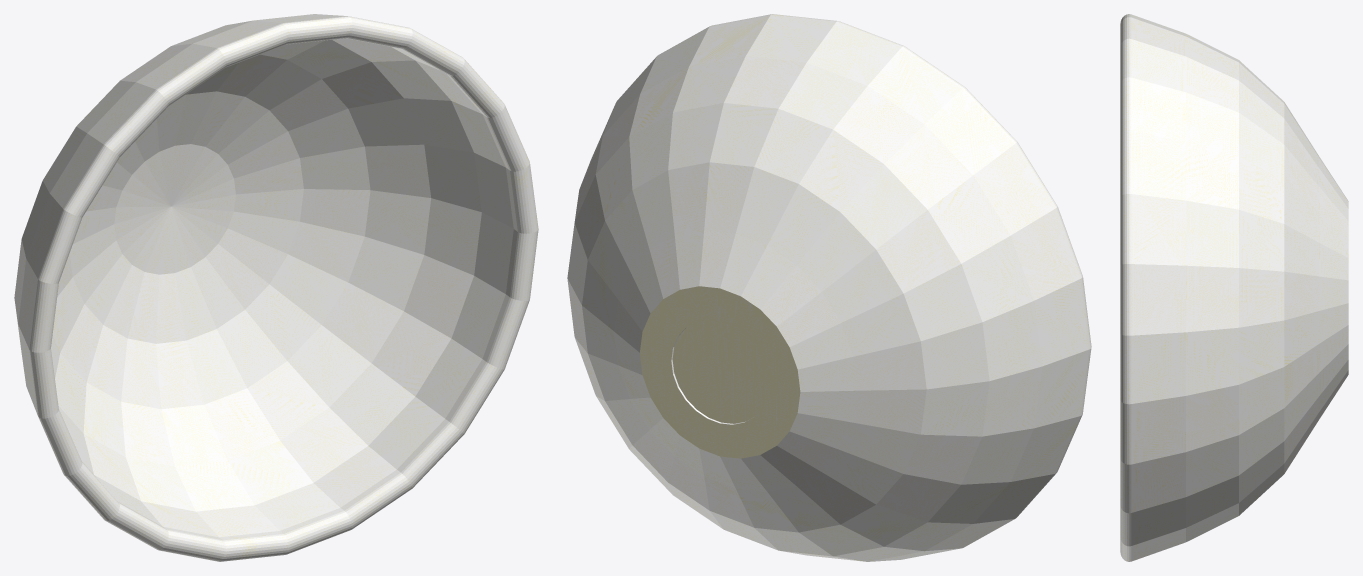
3 views of the same model, side by side, from view 1: azimuth 30°, elevation 25°; view 2: azimuth 150°, elevation 25°; view 3: azimuth 270°, elevation 25° (orthographic). The views are drawn at different scales.
Parts seen in each view (by area): view 1: bowl; view 2: bowl; view 3: bowl.
Boxes of the visible parts, <box> form: bowl: <box>14,14,538,561</box>; bowl: <box>567,14,1091,561</box>; bowl: <box>1120,14,1348,561</box>.
Bounding box in the file's own units: 8.19 × 8.19 × 3.4.
